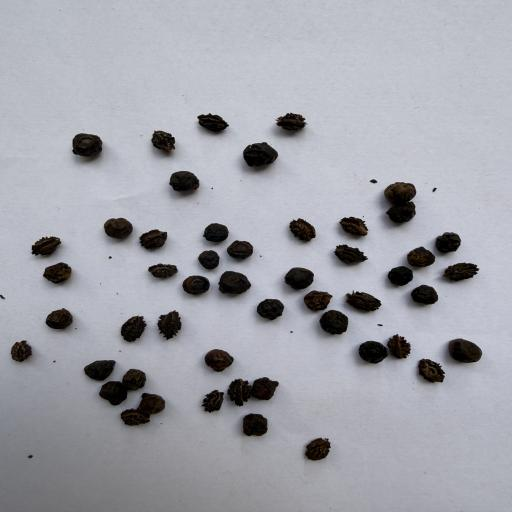Black_pepper: (235, 136, 289, 172), (162, 164, 212, 200), (61, 130, 112, 164), (214, 270, 257, 298), (235, 410, 275, 438), (200, 344, 238, 373), (318, 307, 354, 337), (255, 298, 296, 324), (42, 304, 80, 332), (41, 259, 81, 285), (279, 264, 320, 289), (100, 211, 134, 241), (446, 338, 484, 364), (379, 180, 423, 202), (251, 375, 285, 403), (382, 202, 424, 224), (78, 358, 118, 381), (359, 339, 389, 368), (434, 232, 475, 253), (120, 364, 149, 390), (410, 284, 444, 306), (181, 273, 212, 297), (301, 289, 338, 309), (199, 219, 229, 243), (98, 382, 126, 406), (226, 239, 254, 262), (196, 246, 222, 270), (139, 392, 169, 412), (386, 266, 414, 286), (406, 246, 434, 266)
papaya_seed: (300, 431, 339, 464), (154, 308, 189, 342), (136, 226, 176, 254), (343, 288, 391, 310), (332, 243, 372, 269), (285, 214, 322, 242), (117, 313, 151, 343), (140, 257, 179, 283), (224, 374, 252, 408), (274, 109, 312, 134), (441, 261, 482, 284), (148, 129, 184, 155), (194, 110, 233, 134), (30, 233, 68, 257), (335, 214, 372, 238), (8, 334, 36, 365), (415, 358, 446, 386), (199, 385, 226, 415), (388, 332, 414, 359), (118, 408, 153, 428)
